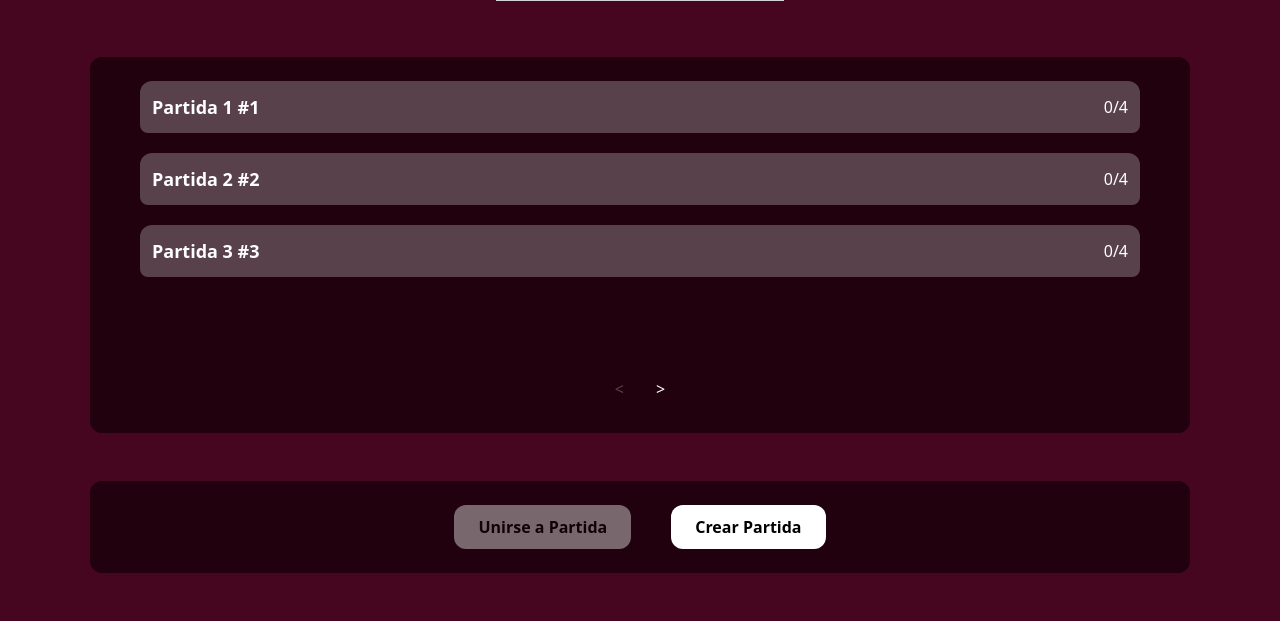
Test: abre y cierra el diálogo de crear partida
(page scrolled)
Expected: the text "Partida 1 #1" is shown, x1=152 y1=95 x2=260 y2=119
Click the button "Crear Partida". click: [748, 527]
box: x1=671 y1=505 x2=826 y2=549
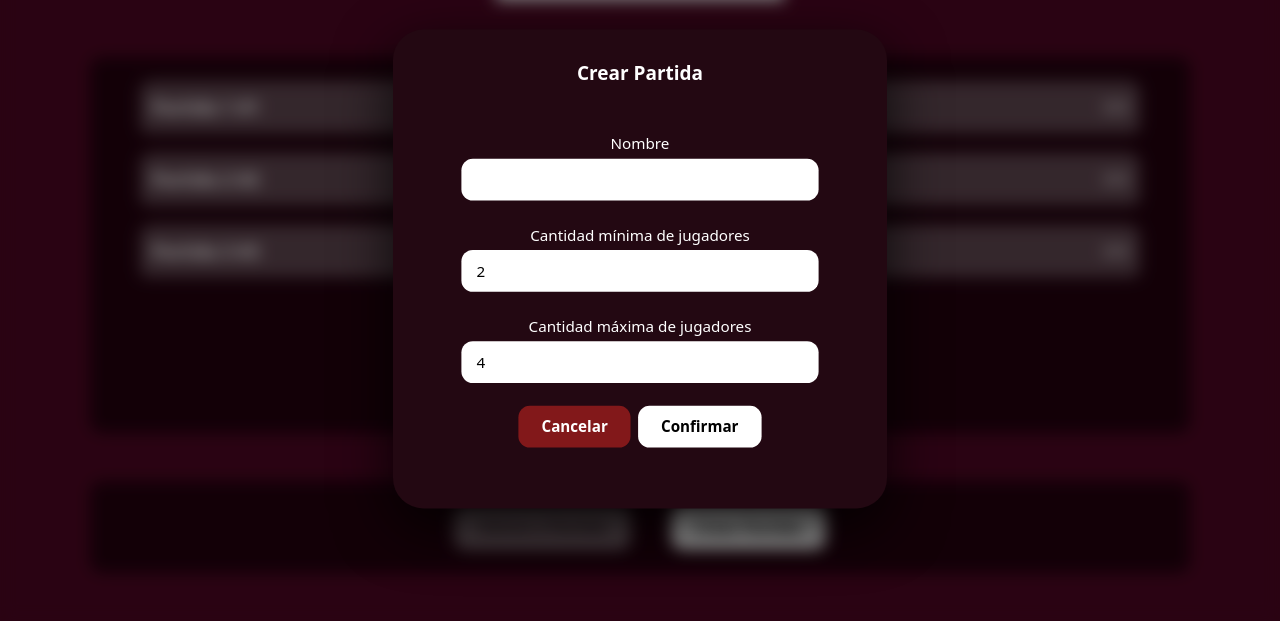
Click the button "Cancelar". click: [575, 427]
box: x1=519 y1=406 x2=631 y2=448
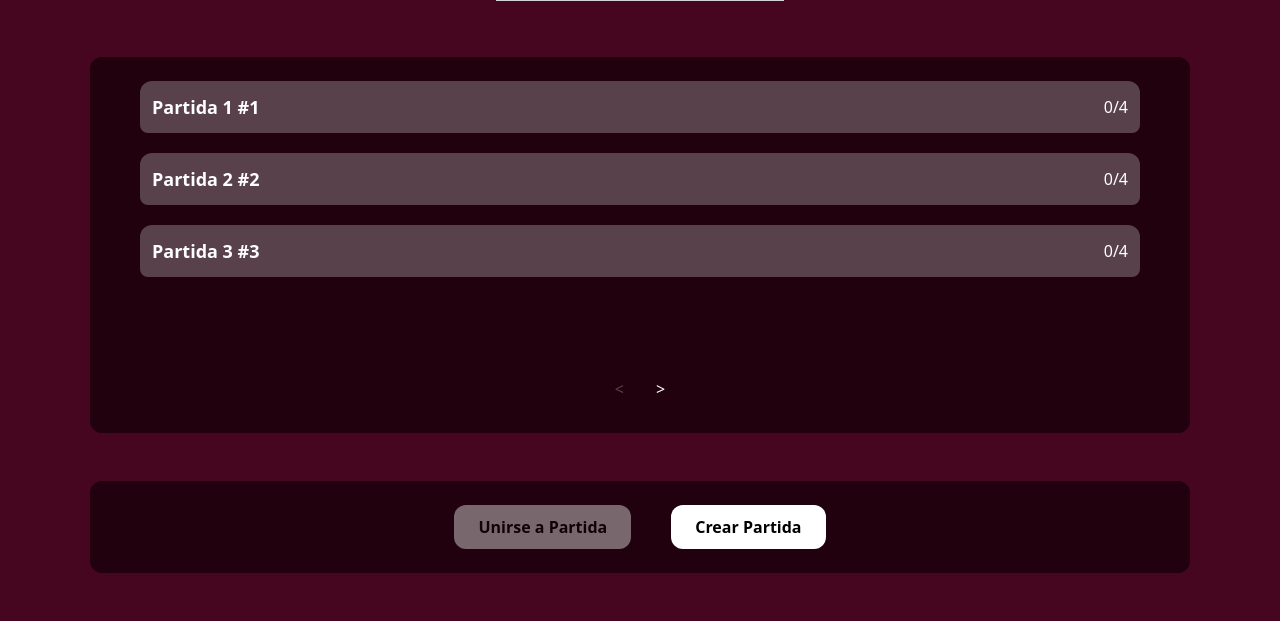
Expected: the button "Cancelar" is gone
